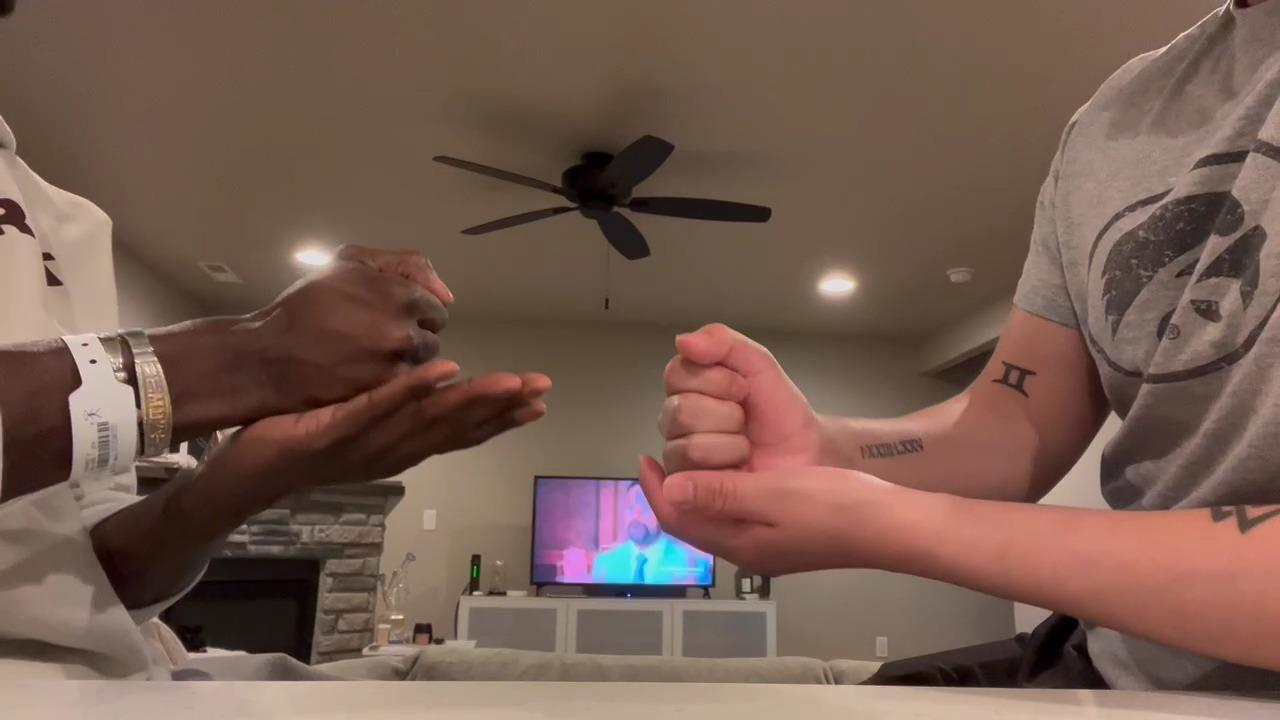Rock: (257, 242, 456, 408), (660, 322, 817, 477)
